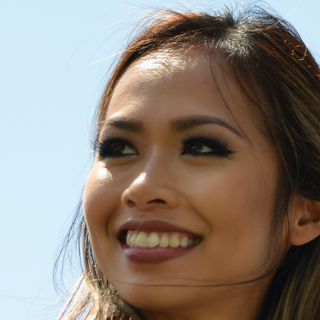eye: (179, 134, 233, 162), (98, 134, 142, 162)
